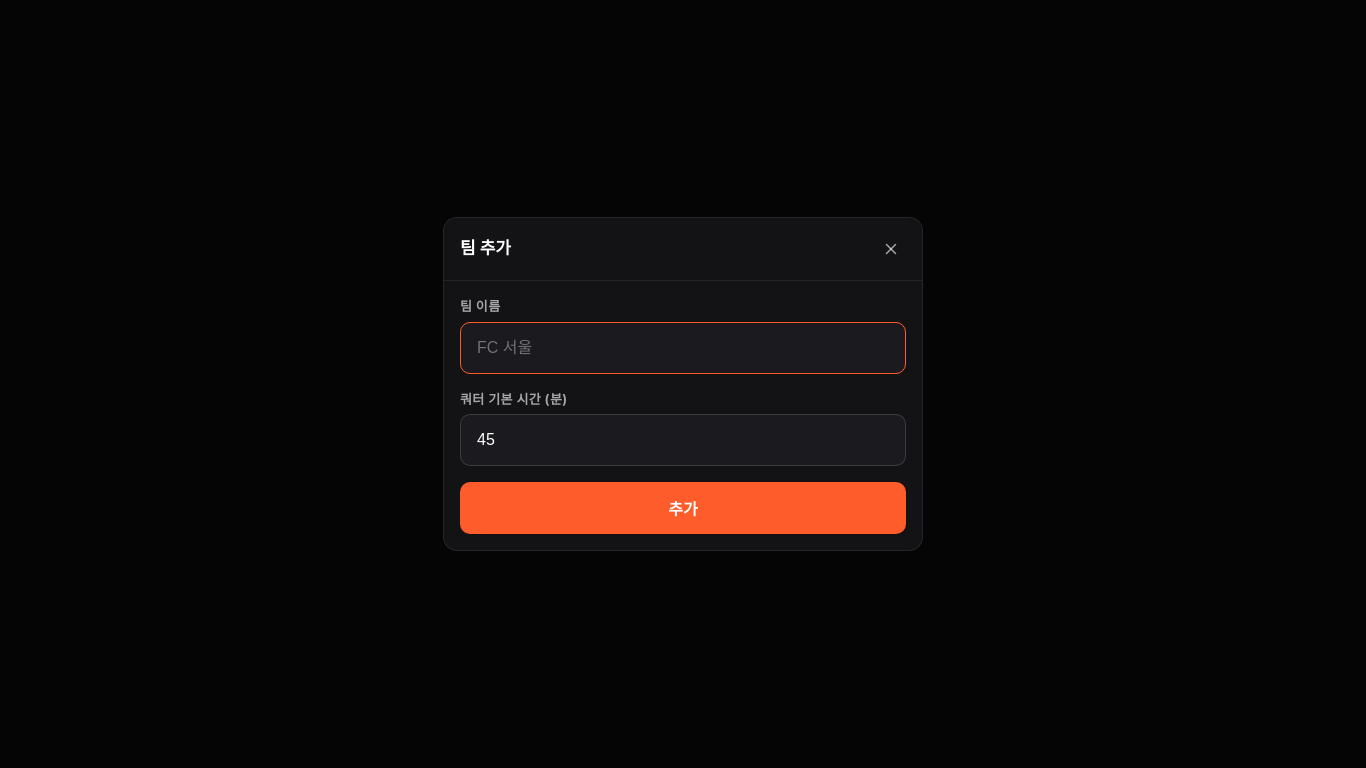
Scenario: TeamFormModal › blocks submit and shows an error when the name is empty
Click the button "추가": (683,508) [460,482,906,534]
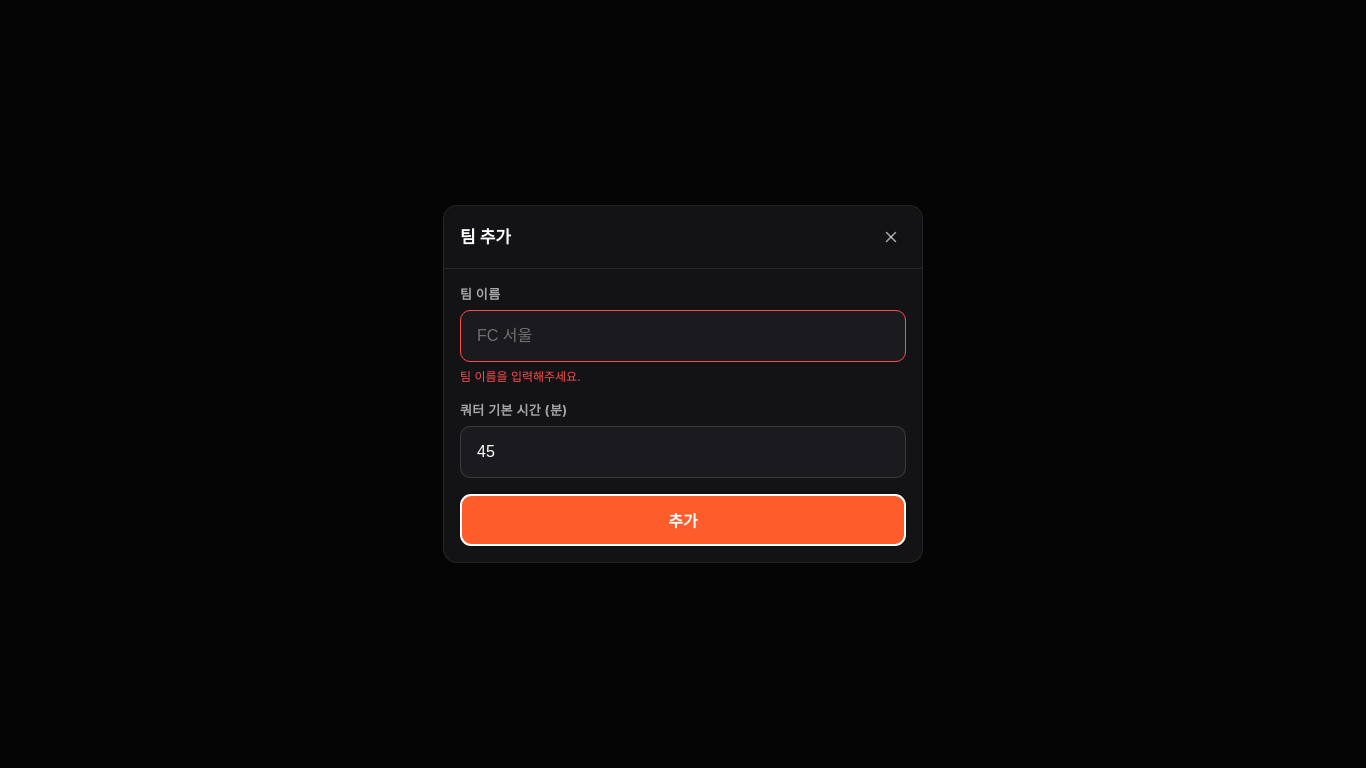
Expected: the text "팀 이름을 입력해주세요." is shown, [460,369,581,384]
